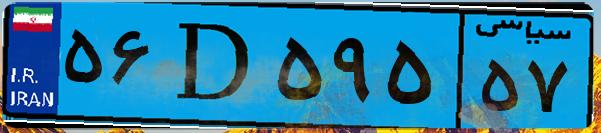5: (270, 28, 330, 110), (385, 28, 445, 110), (57, 26, 110, 100), (475, 38, 525, 113)
6: (110, 28, 158, 98)
7: (525, 38, 570, 115)
9: (330, 28, 385, 110)
D: (158, 12, 270, 120)
